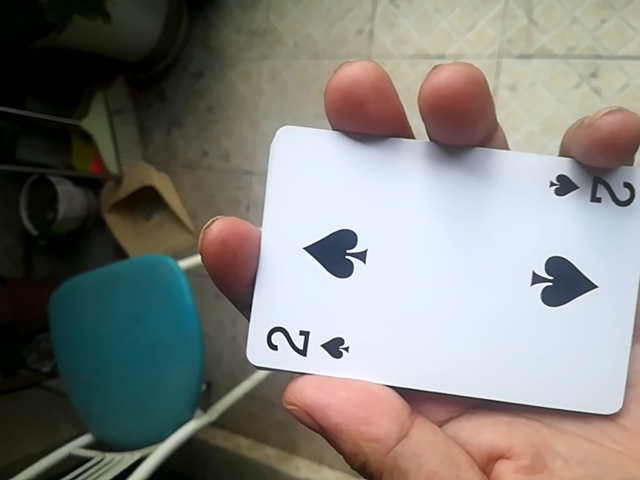ht 2: (242, 136, 640, 415)
